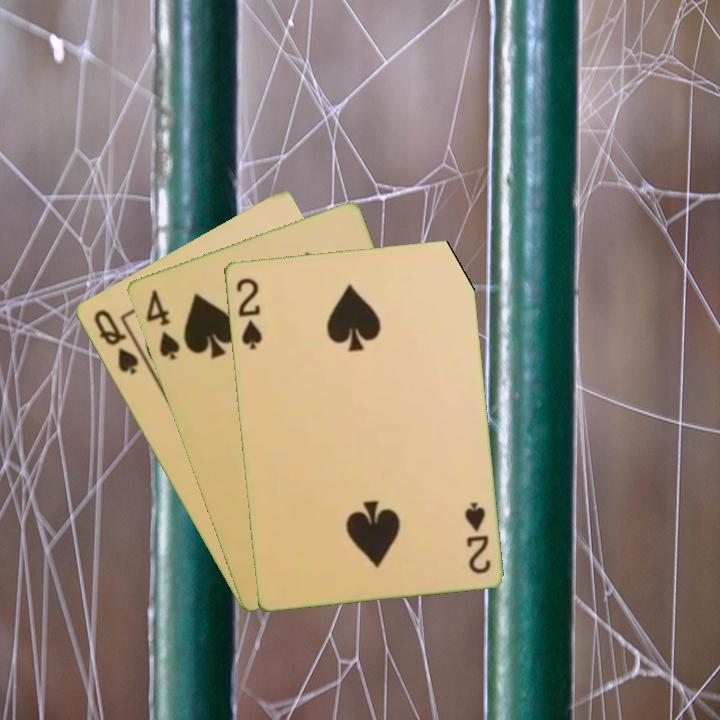2s: (232, 274, 264, 352), (461, 498, 493, 576)
4s: (142, 286, 182, 363)
Qs: (89, 305, 141, 378)
